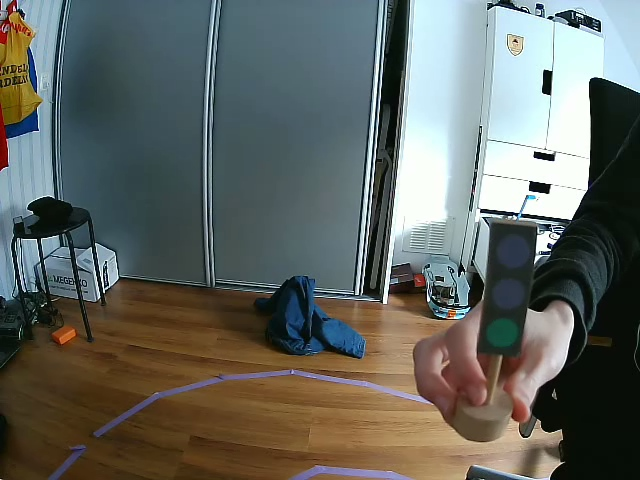groenlicht: (477, 223, 537, 354)
